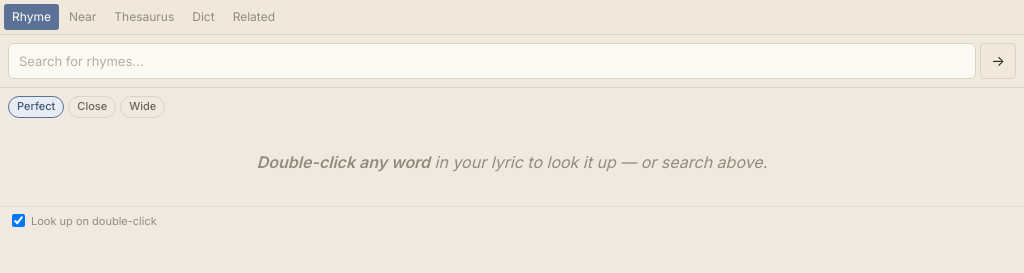
it: Tools pane — filter chips, honest states, and collect (C-14) › T-14.14: filter chips render for rhyme modes and switching them re-queries the appropriate underlying mode
Check: the element with test id "tools-filter-chips" is shown, box [8, 96, 165, 118]
Type "day" into the field with test id "tools-search-input" at point(492, 61), box [8, 43, 976, 79]
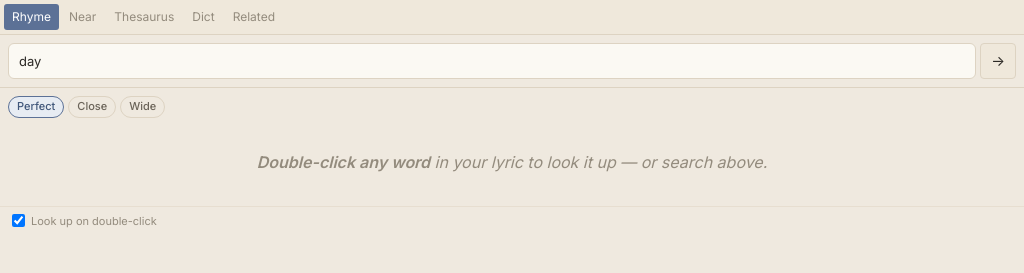
Click the button with test id "tools-search-button" at point(998, 61), box [980, 43, 1016, 79]
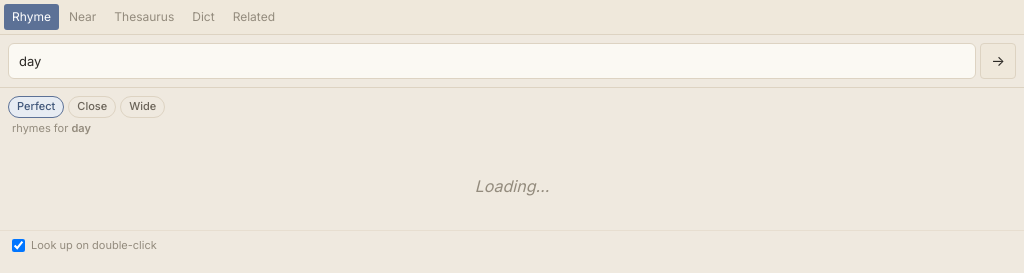
# Switching to "Wide" re-queries using the existing rhyme-near mode (no new mode/provider)
Click the button with test id "tools-filter-chip-wide" at point(143, 107), box [120, 96, 165, 118]
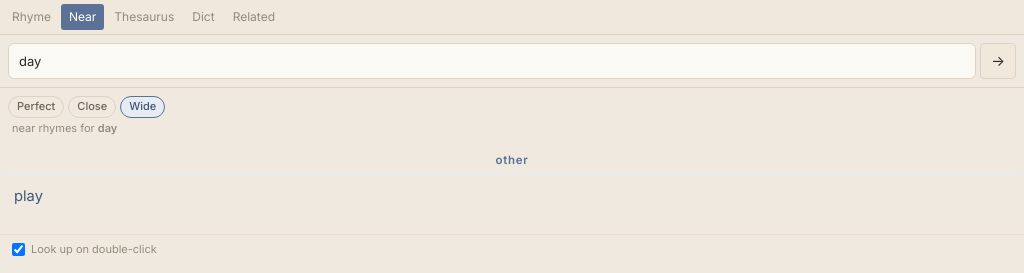
Check: the button with test id "tools-filter-chip-wide" is pressed, box [120, 96, 165, 118]
# Switching back to "Perfect" re-queries rhyme-exact
Click the button with test id "tools-filter-chip-perfect" at point(36, 107), box [8, 96, 64, 118]
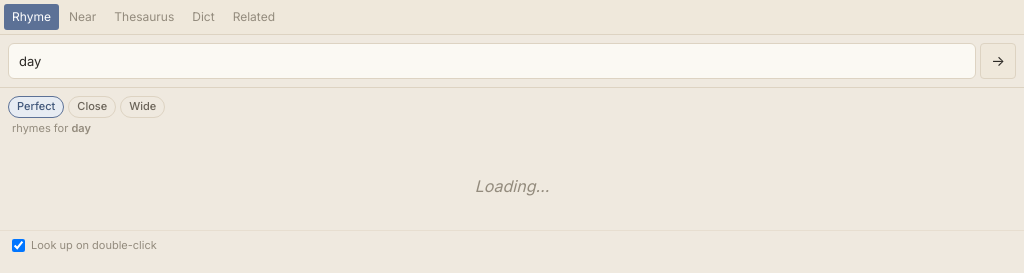
# Chips disappear for a non-rhyme mode
Click the tab with test id "tools-tab-thesaurus" at point(144, 17), box [106, 4, 182, 30]
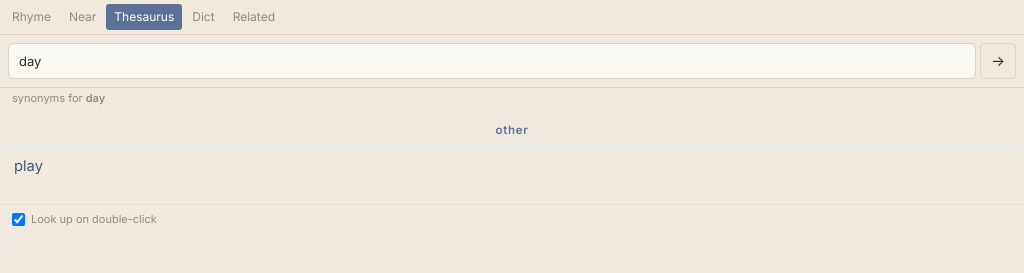
Check: the element with test id "tools-filter-chips" is gone
